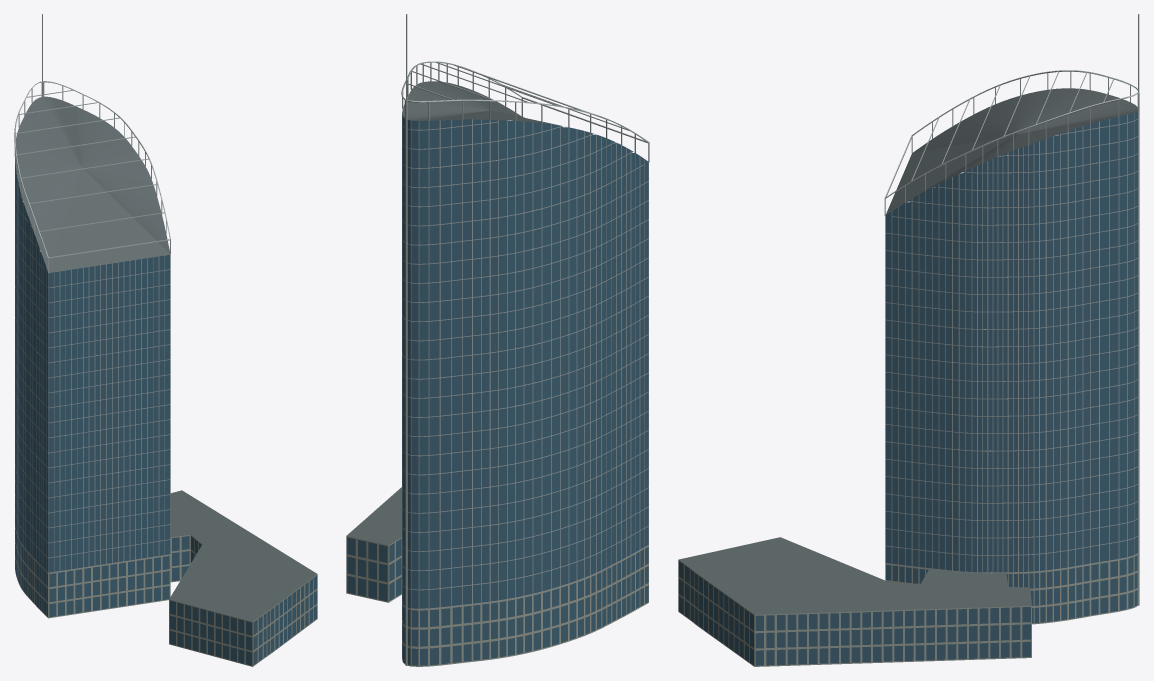
Rendered from tour-paradis-liege-near.glb.
The picture shows the model from 3 angles, left to right: view 1: azimuth 30°, elevation 25°; view 2: azimuth 150°, elevation 25°; view 3: azimuth 270°, elevation 25°; orthographic projection. The views are drawn at different scales.
Parts seen in each view (by area): view 1: tour-paradis-liege-0-glass, tour-paradis-liege-0-roof, tour-paradis-liege-0-metal, tour-paradis-liege-0-stone; view 2: tour-paradis-liege-0-glass, tour-paradis-liege-0-metal, tour-paradis-liege-0-stone, tour-paradis-liege-0-roof; view 3: tour-paradis-liege-0-glass, tour-paradis-liege-0-metal, tour-paradis-liege-0-roof, tour-paradis-liege-0-stone.
Part boxes in pixels (x1=…): tour-paradis-liege-0-glass: x1=15, y1=158, x2=317, y2=665; tour-paradis-liege-0-roof: x1=15, y1=96, x2=317, y2=621; tour-paradis-liege-0-metal: x1=14, y1=14, x2=170, y2=573; tour-paradis-liege-0-stone: x1=15, y1=525, x2=317, y2=666; tour-paradis-liege-0-glass: x1=347, y1=113, x2=648, y2=665; tour-paradis-liege-0-metal: x1=401, y1=14, x2=649, y2=665; tour-paradis-liege-0-stone: x1=346, y1=536, x2=648, y2=666; tour-paradis-liege-0-roof: x1=346, y1=81, x2=566, y2=545; tour-paradis-liege-0-glass: x1=679, y1=111, x2=1137, y2=665; tour-paradis-liege-0-metal: x1=884, y1=14, x2=1139, y2=605; tour-paradis-liege-0-roof: x1=678, y1=88, x2=1137, y2=614; tour-paradis-liege-0-stone: x1=678, y1=554, x2=1138, y2=666.
Size of the model in its own units: 56.29 by 136 by 96.24.
